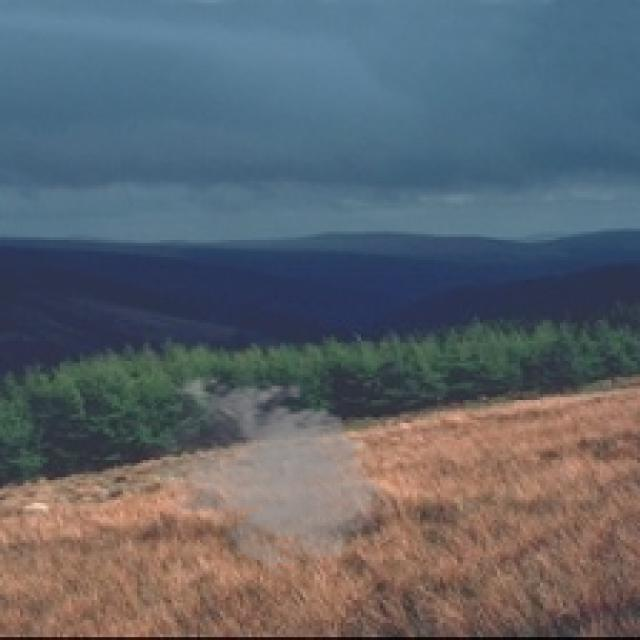Smoke: (142, 371, 392, 580)
